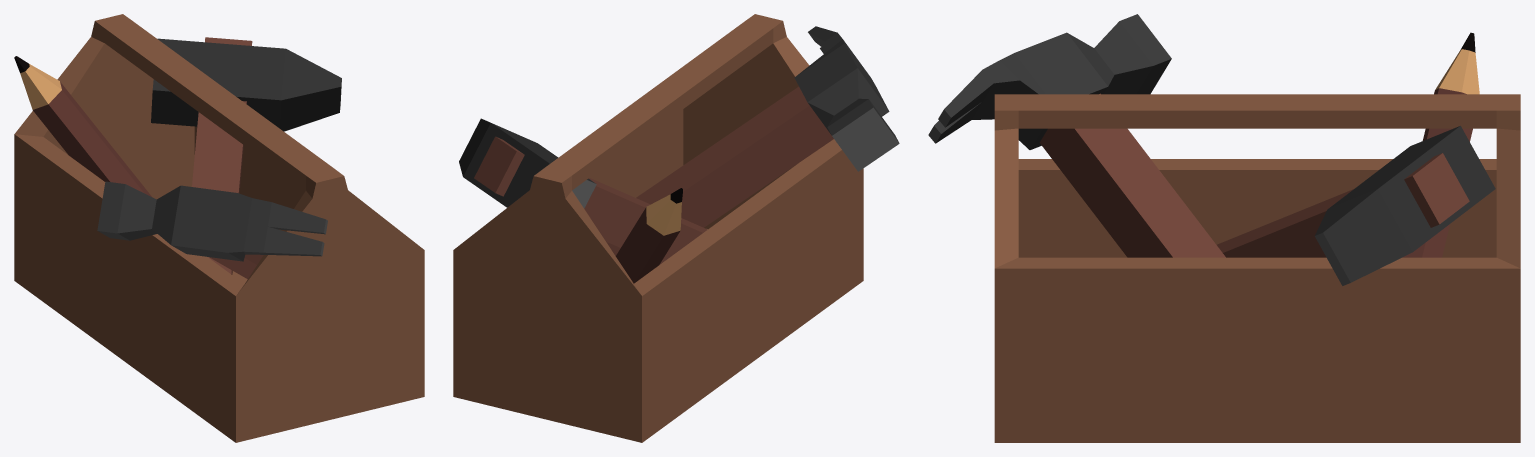
File: tool_box_full.fbx
3 renders of one model, left to right at view 1: azimuth 30°, elevation 25°; view 2: azimuth 150°, elevation 25°; view 3: azimuth 270°, elevation 25°, orthographic. The views are drawn at different scales.
Visible parts, largest first — view 1: tool_box_full; view 2: tool_box_full; view 3: tool_box_full.
Part boxes in pixels (bbox=[...]): tool_box_full: bbox=[14, 14, 424, 442]; tool_box_full: bbox=[453, 14, 899, 442]; tool_box_full: bbox=[928, 14, 1520, 442].
Size of the model in its own units: 35.72 by 24.36 by 45.08.
